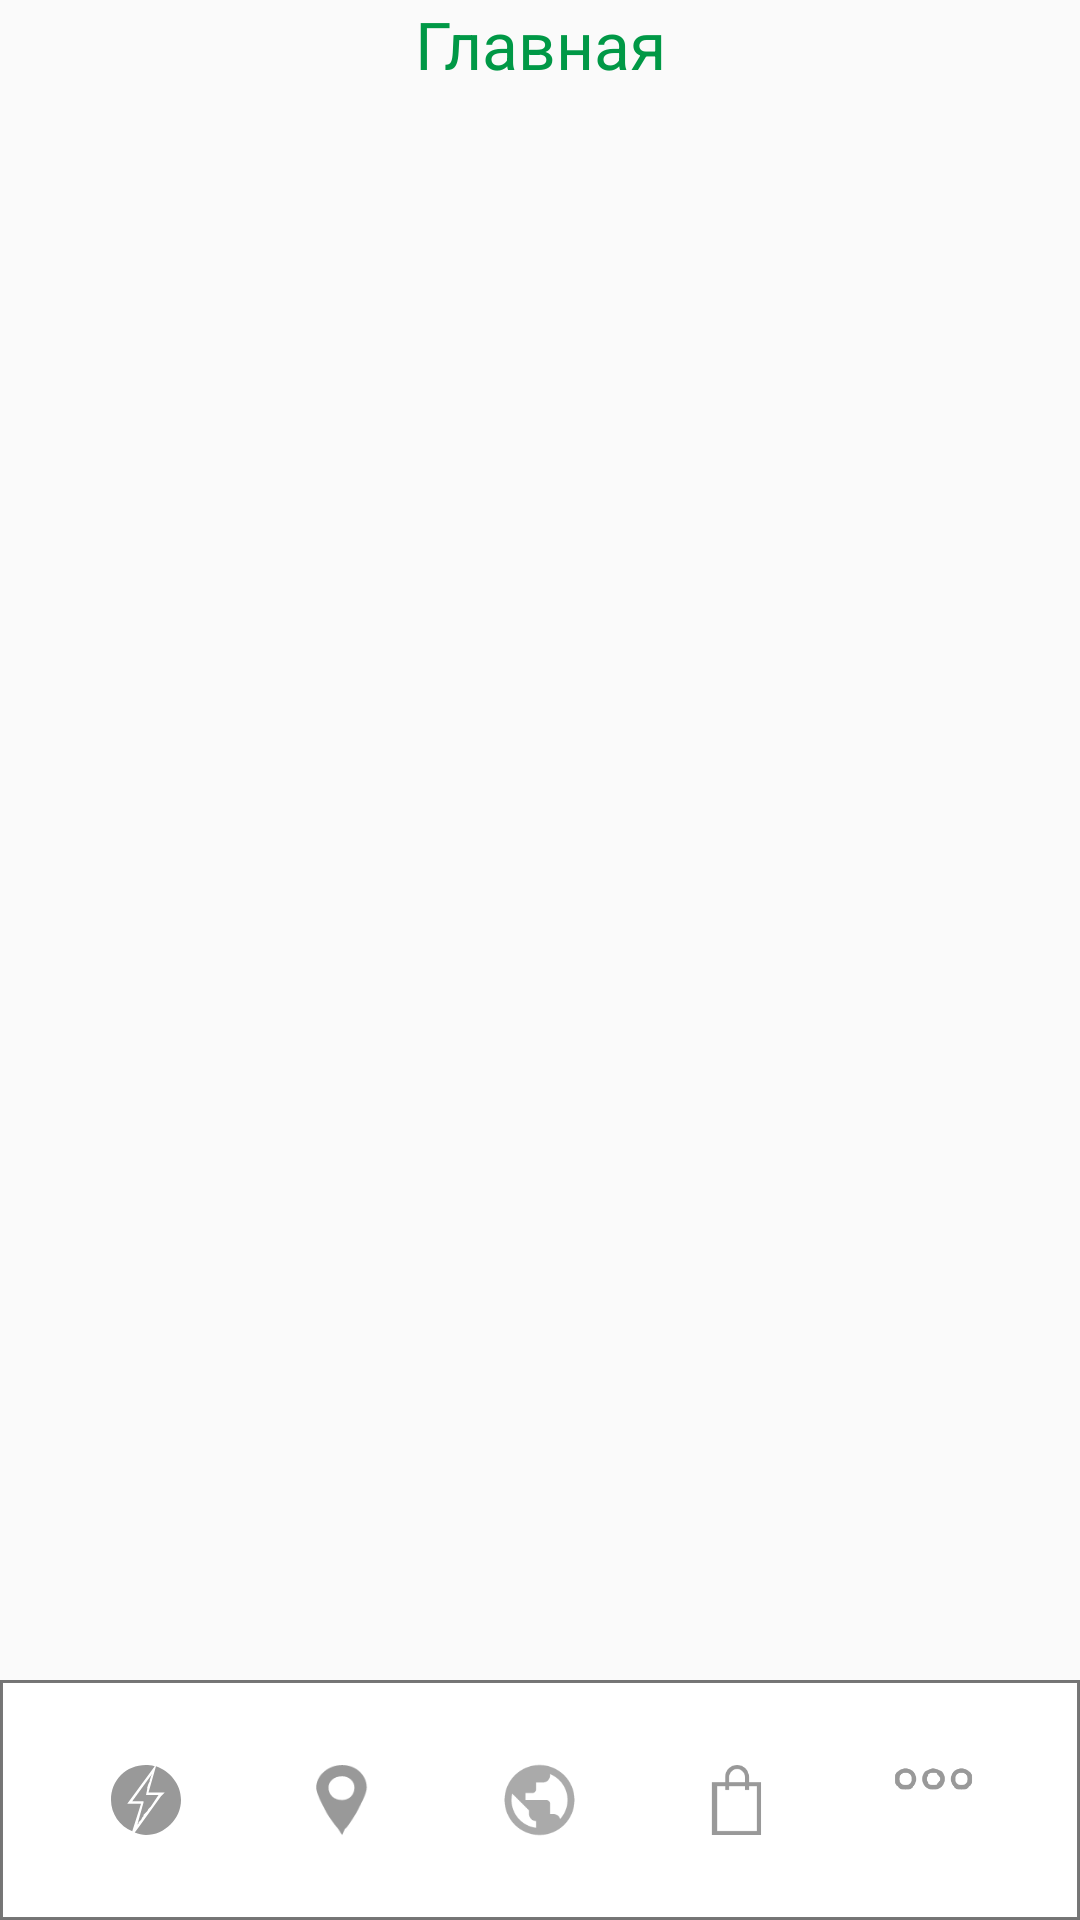

Named icons in this screenshot (1080px x 1920px) and their centers, (x,y):
flash: (146,1800)
marker: (341,1800)
more: (933,1779)
public: (539,1800)
shop: (736,1800)
